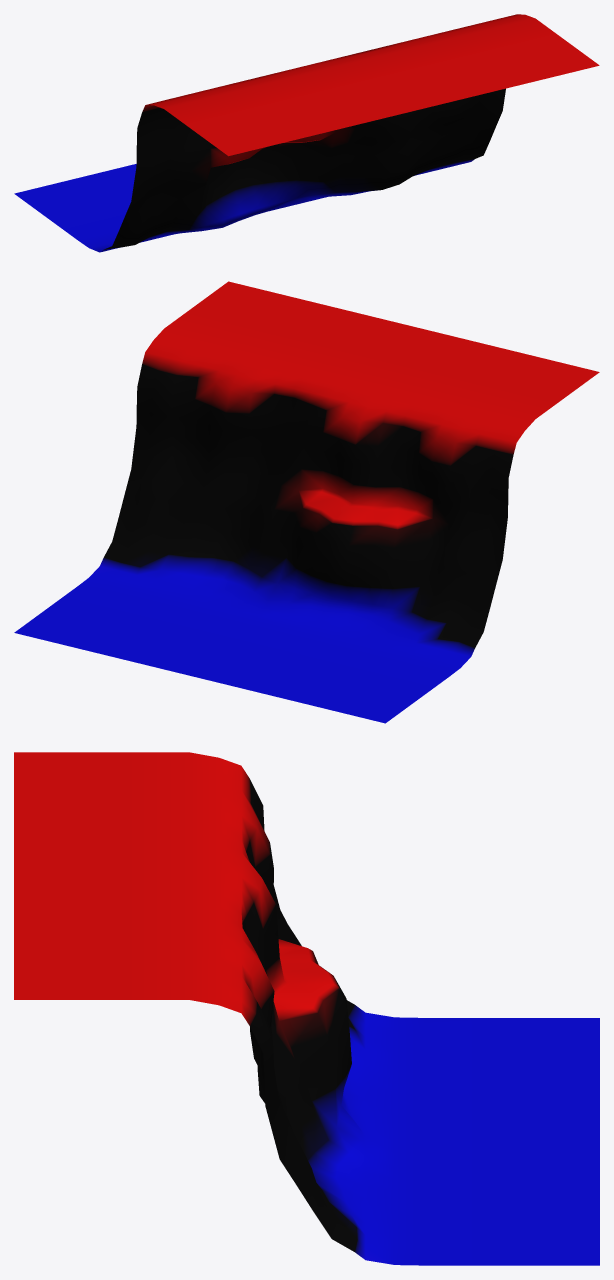
File: RiveCliff01B Foreground.fbx
The picture shows the model from 3 angles, top to bottom: view 1: azimuth 30°, elevation 25°; view 2: azimuth 150°, elevation 25°; view 3: azimuth 270°, elevation 25°; orthographic projection. The views are drawn at different scales.
Visible parts, largest first — view 1: RiveCliff01B Foreground; view 2: RiveCliff01B Foreground; view 3: RiveCliff01B Foreground.
Part boxes in pixels (<box>): RiveCliff01B Foreground: <box>14,14,599,252</box>; RiveCliff01B Foreground: <box>14,281,599,723</box>; RiveCliff01B Foreground: <box>14,752,599,1265</box>.
Size of the model in its own units: 2 by 1 by 2.
